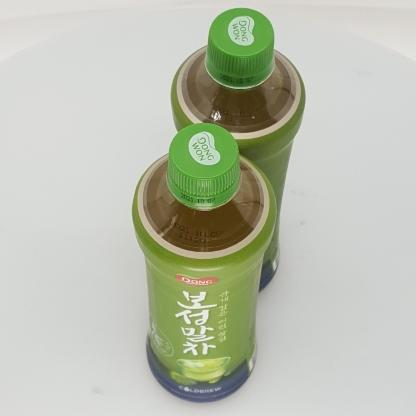------500ML: (132, 123, 277, 403)
